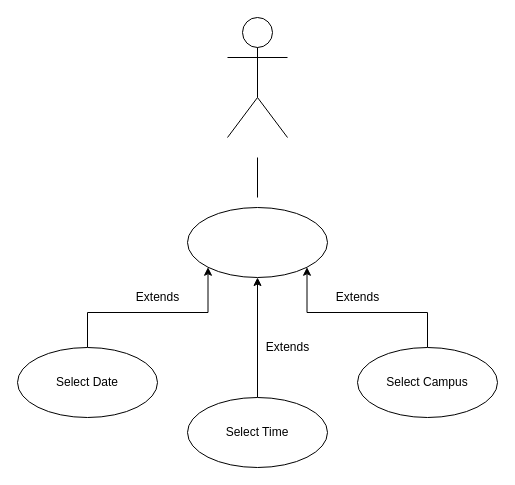
Image size: 515x485. Some labels were removed from this diagram. The shapes that lost their labels are listed below. From the top down, each one's box as (x1, y1, x2, y2) in pixels, then its label:
(226, 16, 288, 138): University Admin
(186, 206, 328, 278): Create Event
